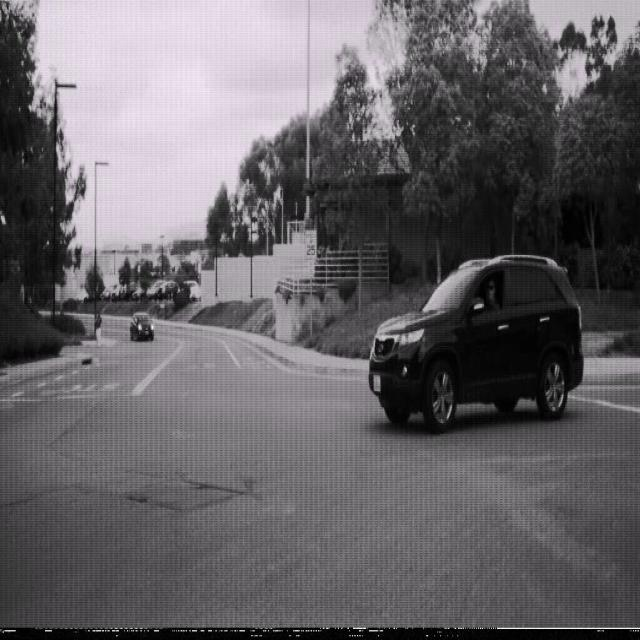speedLimit25: (304, 228, 317, 260)
